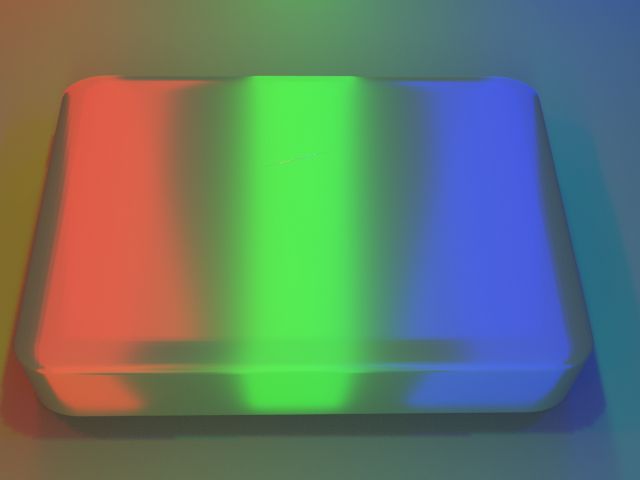scratch: (192, 96, 396, 206)
